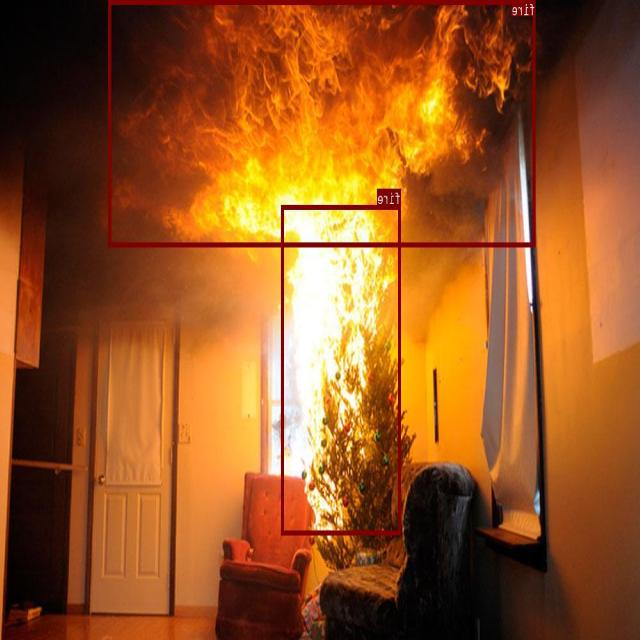fire: (110, 0, 537, 246), (282, 204, 402, 533)
